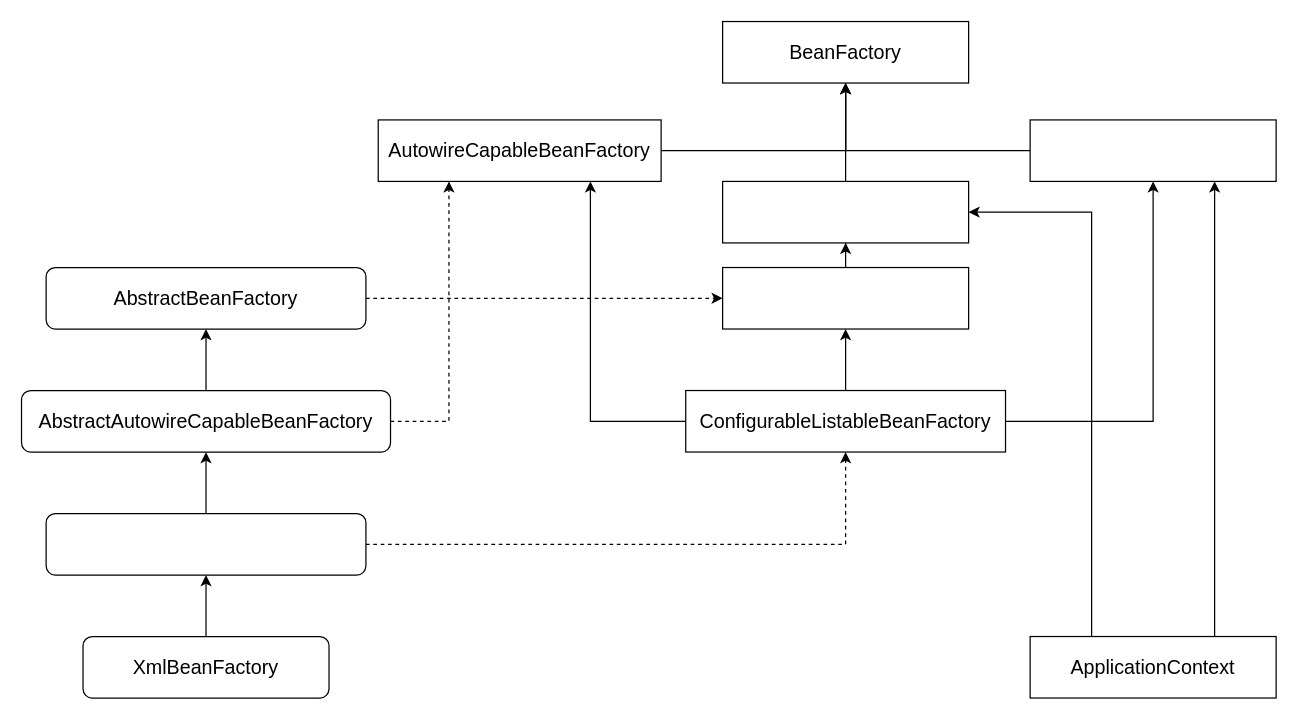
Image size: 1298x720. Some labels were removed from this diagram. Each missing label, with the centre of its shape:
ConfigurableBeanFactory: point (845, 297)
DefaultListableBeanFactory: point (205, 543)
HierarchicalBeanFactory: point (845, 211)
ListableBeanFactory: point (1152, 150)
